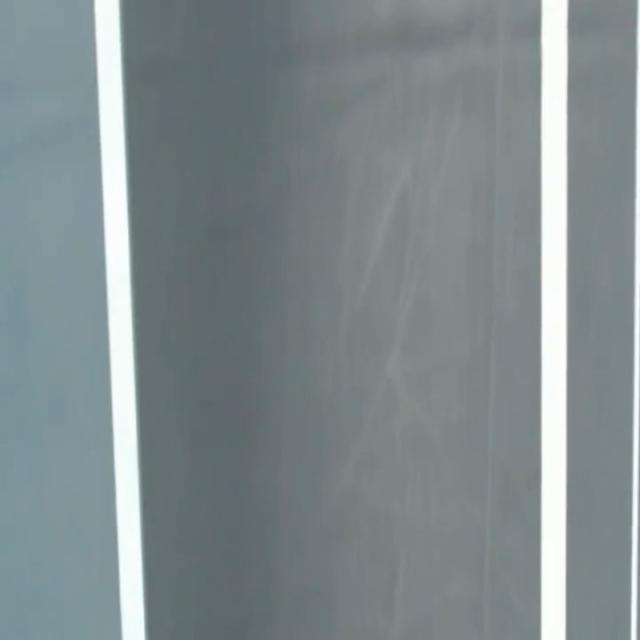center: (540, 0, 568, 639)
left: (93, 0, 145, 639)
